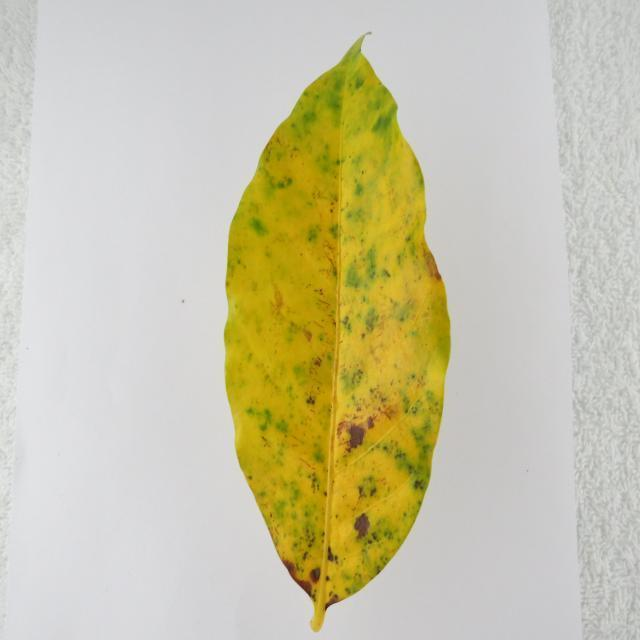DeficienciaNutricional-Nitrogeno: (225, 38, 450, 632)
